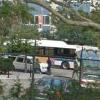Tree: (9, 0, 100, 39)
